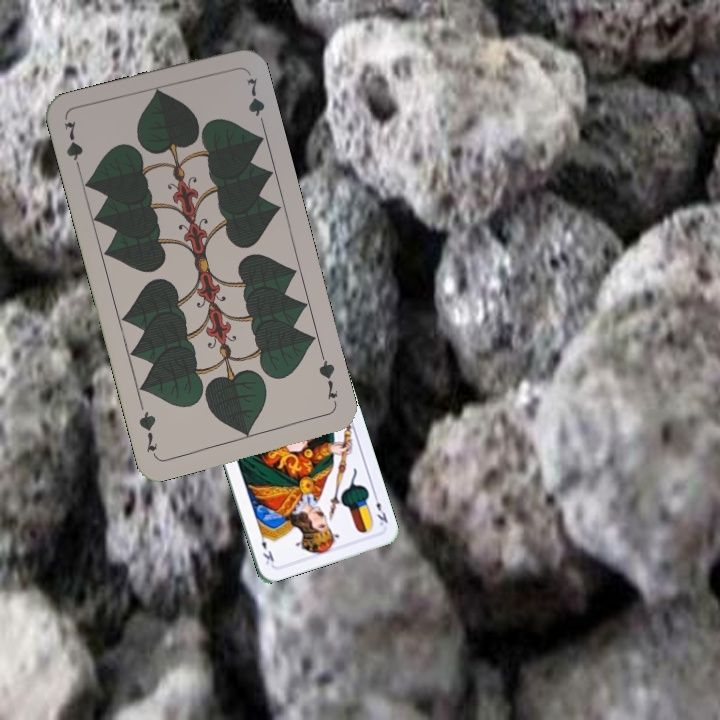EK: (370, 490, 390, 528)
G7: (314, 350, 341, 409), (60, 117, 86, 176)
